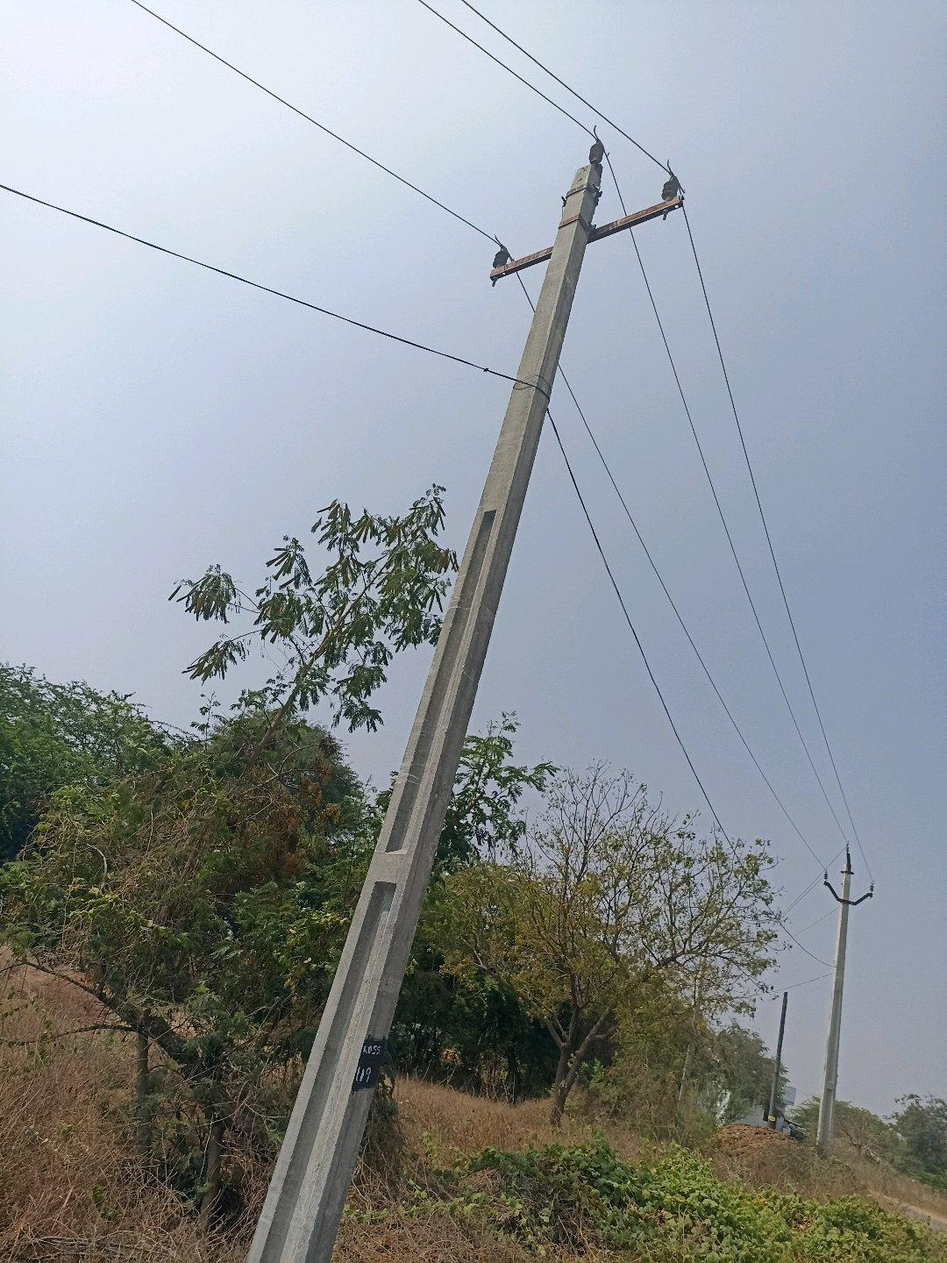{"0" "insulator", "1" "pole", "2" "crossarm", "3" "conductor", "4" "street_: (247, 142, 680, 1262), (814, 846, 873, 1149), (491, 268, 503, 277)
